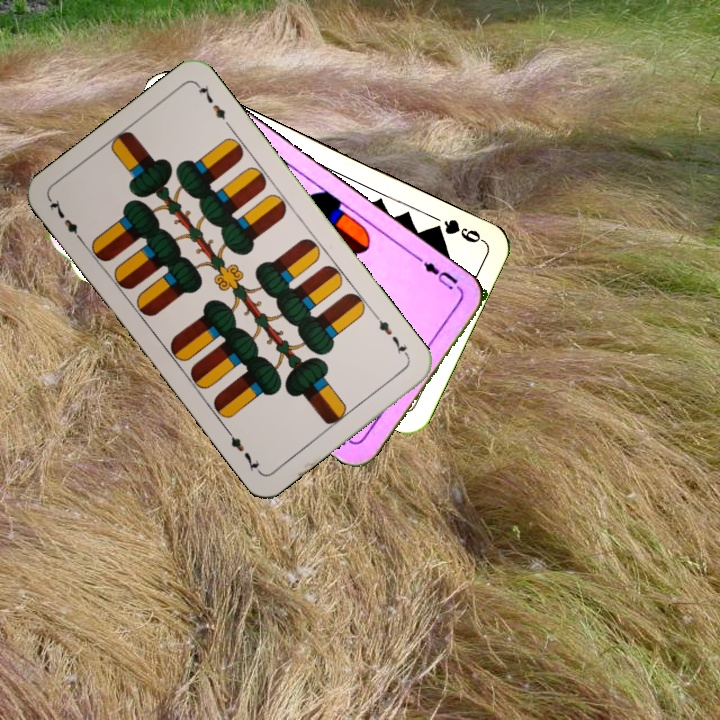E7: (370, 311, 412, 361), (45, 195, 86, 246)
EU: (414, 253, 465, 295)
G9: (426, 214, 486, 246)
